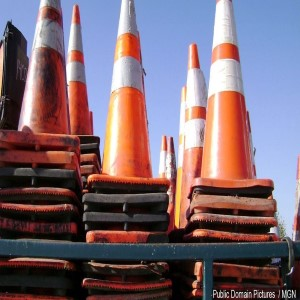traffic cone: (86, 1, 171, 191), (191, 1, 274, 194), (171, 43, 230, 238), (1, 1, 79, 147), (52, 3, 100, 141), (155, 131, 170, 238)
